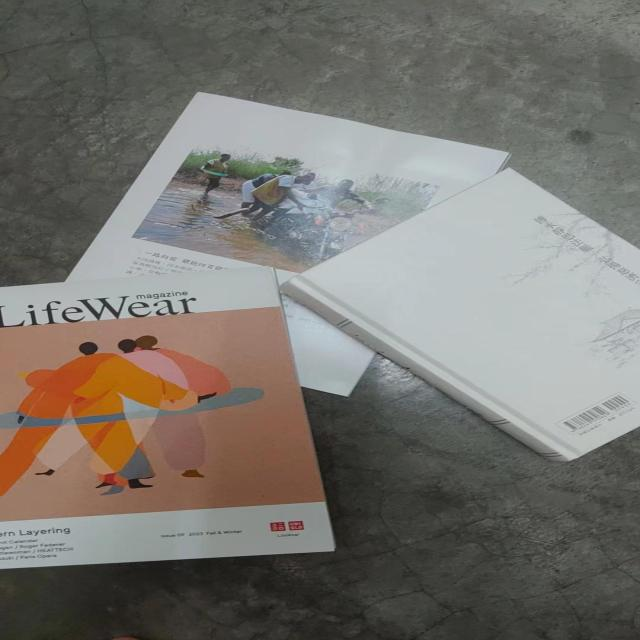paper: (0, 91, 640, 570)
